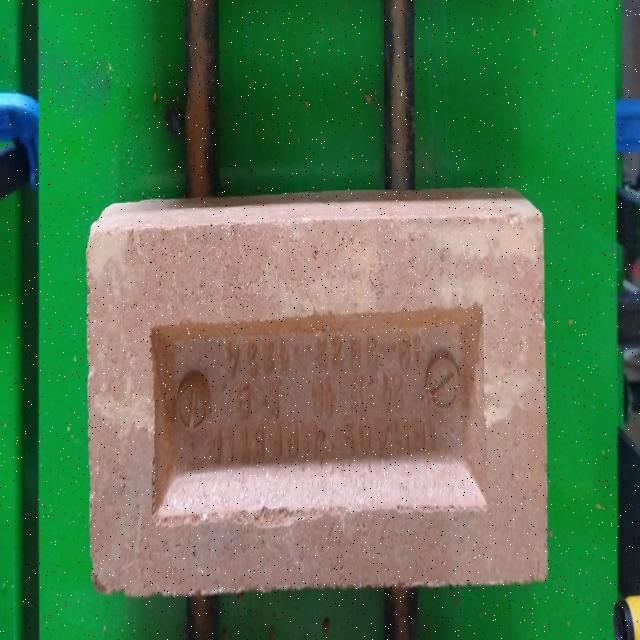bricks: (89, 186, 548, 595)
